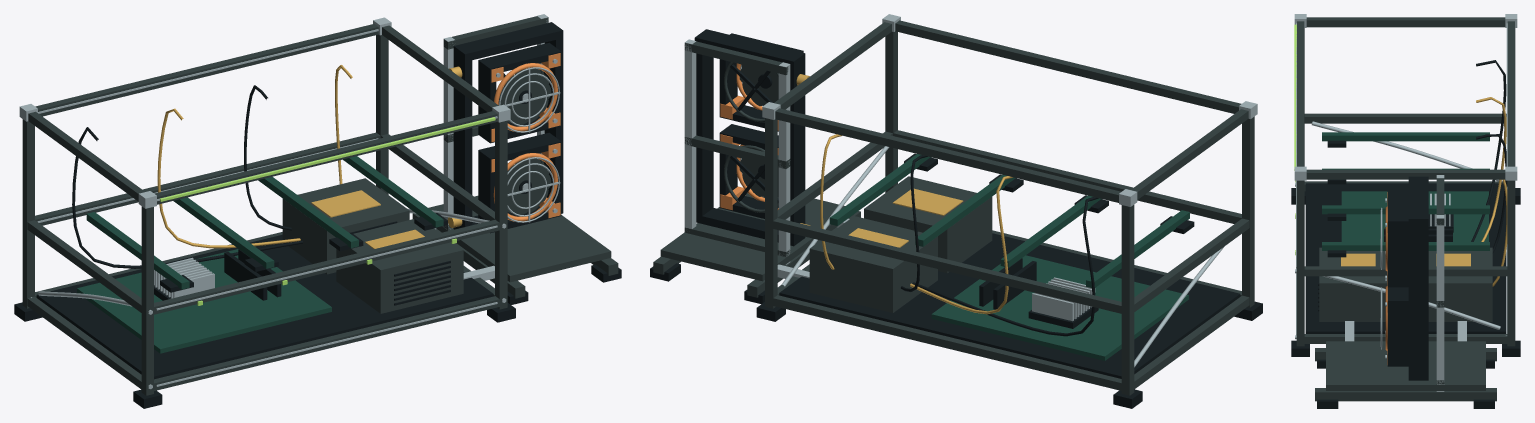
File: rig-4-frame-air.glb
The picture shows the model from 3 angles, left to right: view 1: azimuth 30°, elevation 25°; view 2: azimuth 150°, elevation 25°; view 3: azimuth 270°, elevation 25°; orthographic projection. The views are drawn at different scales.
Parts seen in each view (by area): view 1: Anodized graphite (×4), Rubber and ABS (×4), Circuit board, Brushed aluminium (×4), Industrial orange (×2), Contacts, rig-4-frame-air, slot-cable-1, slot-cable-2, slot-cable-3; view 2: Anodized graphite (×3), Rubber and ABS (×4), Circuit board, Brushed aluminium (×2), Contacts, Industrial orange (×2), slot-cable-1, slot-cable-2; view 3: Anodized graphite (×2), Rubber and ABS (×5), Circuit board, Brushed aluminium (×2), Contacts, slot-cable-1, slot-cable-2, slot-cable-3, rig-4-frame-air, slot-cable-4.
Part boxes in pixels (left/top/right/bottom): Anodized graphite (×4): left=22, top=16, right=618, bottom=395; Rubber and ABS (×4): left=14, top=22, right=563, bottom=408; Circuit board: left=77, top=156, right=443, bottom=353; Brushed aluminium (×4): left=19, top=14, right=560, bottom=389; Industrial orange (×2): left=491, top=53, right=560, bottom=221; Contacts: left=311, top=190, right=424, bottom=248; rig-4-frame-air: left=160, top=117, right=495, bottom=201; slot-cable-1: left=72, top=127, right=303, bottom=268; slot-cable-2: left=157, top=108, right=300, bottom=248; slot-cable-3: left=244, top=85, right=291, bottom=230; Anodized graphite (×3): left=653, top=20, right=1254, bottom=395; Rubber and ABS (×4): left=694, top=29, right=1262, bottom=408; Circuit board: left=829, top=154, right=1189, bottom=360; Brushed aluminium (×2): left=684, top=14, right=1257, bottom=367; Contacts: left=848, top=188, right=963, bottom=247; Industrial orange (×2): left=720, top=63, right=778, bottom=210; slot-cable-1: left=912, top=197, right=1098, bottom=336; slot-cable-2: left=910, top=176, right=1012, bottom=314; Anodized graphite (×2): left=1296, top=17, right=1515, bottom=401; Rubber and ABS (×5): left=1291, top=140, right=1520, bottom=408; Circuit board: left=1322, top=132, right=1489, bottom=250; Brushed aluminium (×2): left=1294, top=14, right=1517, bottom=391; Contacts: left=1341, top=253, right=1470, bottom=266; slot-cable-1: left=1471, top=60, right=1506, bottom=241; slot-cable-2: left=1476, top=97, right=1506, bottom=241; slot-cable-3: left=1476, top=134, right=1507, bottom=253; rig-4-frame-air: left=1294, top=24, right=1296, bottom=170; slot-cable-4: left=1492, top=179, right=1507, bottom=286.
Bounding box in the file's own units: 8.02 × 3.32 × 3.66.
